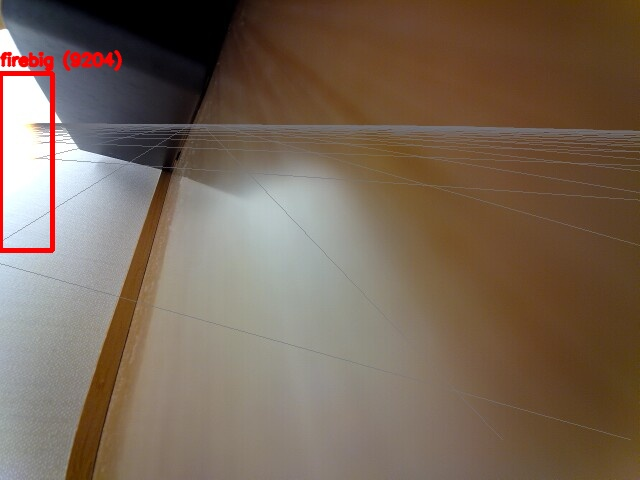firebig: (0, 73, 52, 250)
